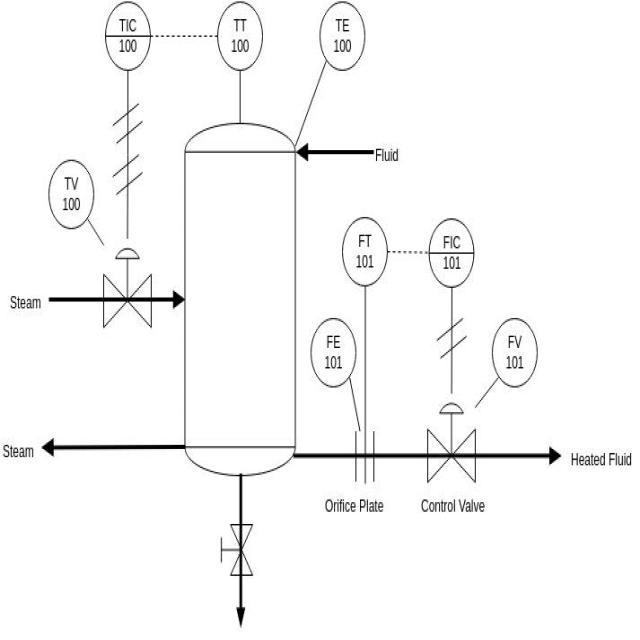Hand Operated Gate Valve: (200, 505, 263, 589)
Orifice: (345, 420, 383, 488)
Pneumatic-Diaphragm Gate Valve: (409, 394, 487, 488), (96, 238, 162, 338)
